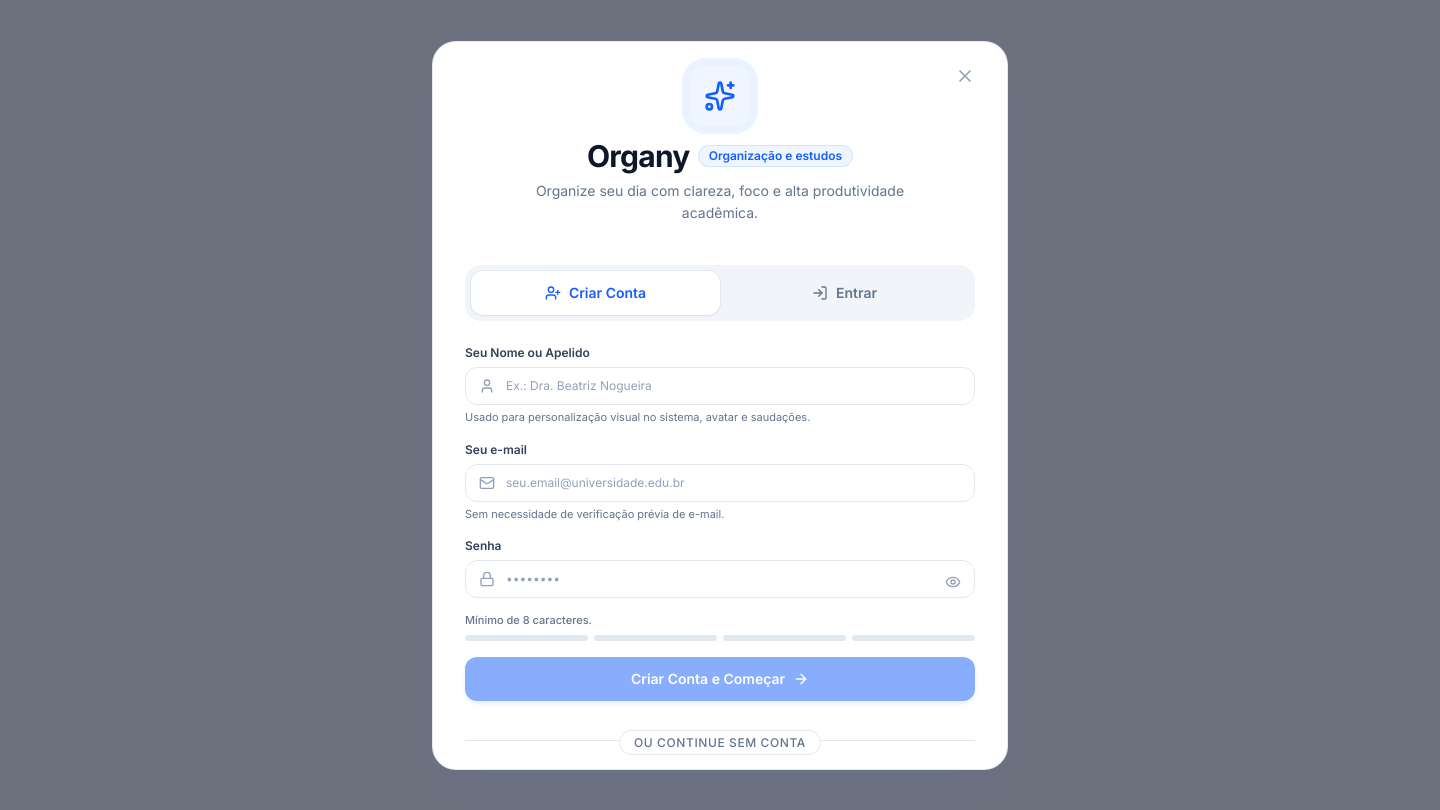
Test: AuthModal Component › alterna entre as abas Criar Conta e Entrar
Expected: the field labelled "Seu Nome ou Apelido" is shown, [465, 367, 975, 405]
# Clica na aba Entrar
What coordinates should you click on to do the following:
click the tab "Entrar"
I would click on:
 (844, 293)
Its box is [720, 271, 969, 315].
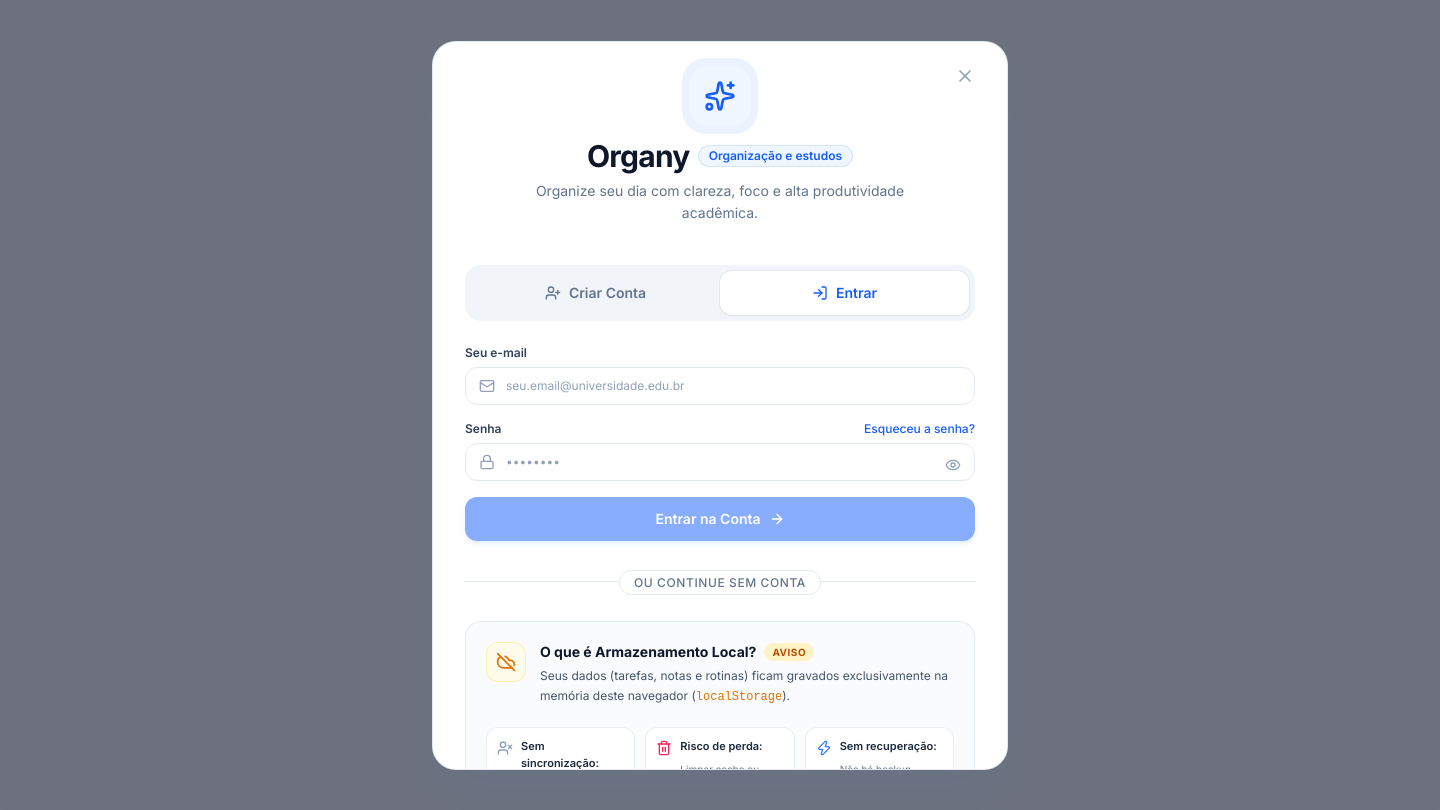
Expected: the label labelled "Seu Nome ou Apelido" is gone
Expected: the button "Entrar na Conta" is shown, [465, 497, 975, 541]
# Retorna para Criar Conta
What coordinates should you click on to do the following:
click the tab "Criar Conta"
I would click on:
 (596, 293)
Its box is [471, 271, 720, 315].
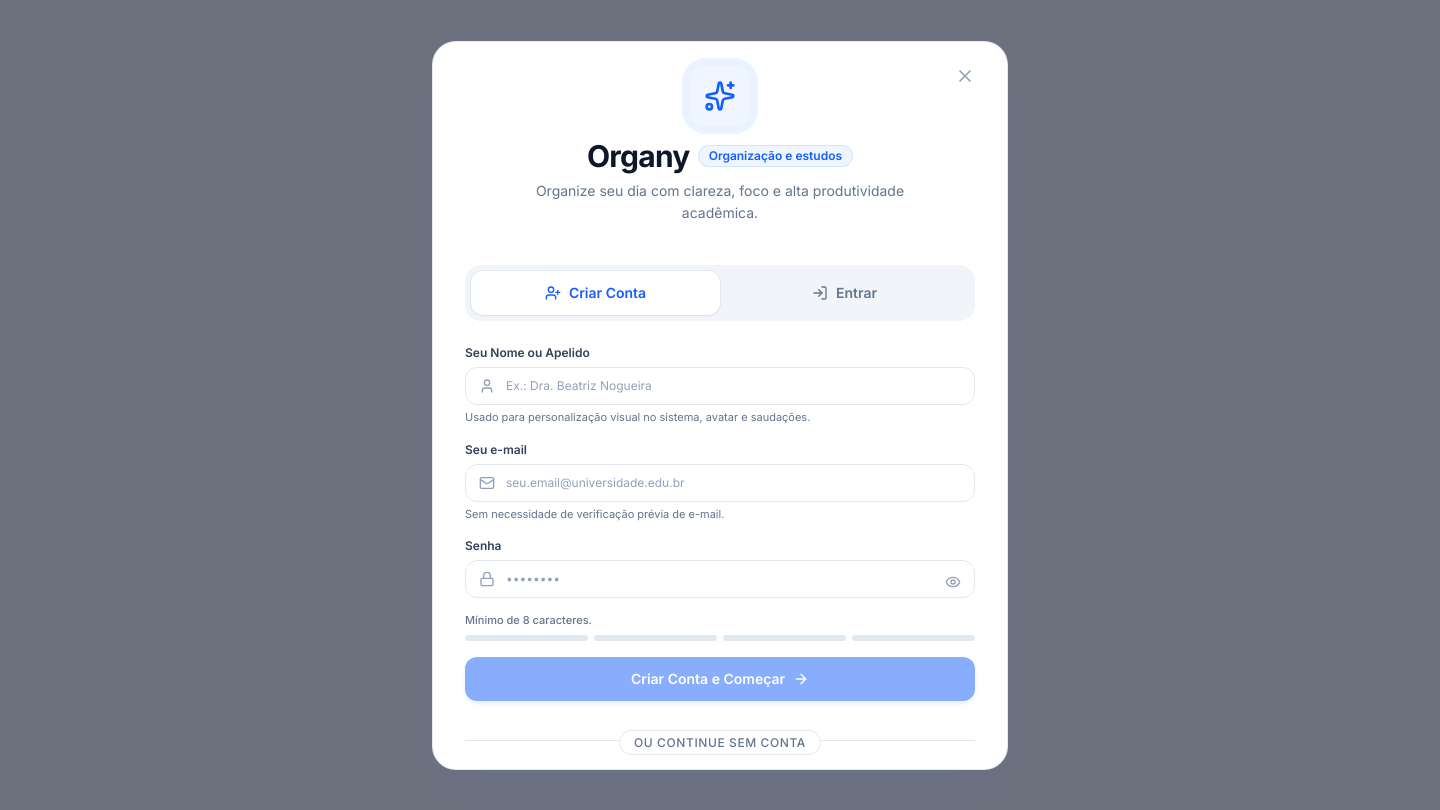
Expected: the field labelled "Seu Nome ou Apelido" is shown, [465, 367, 975, 405]
